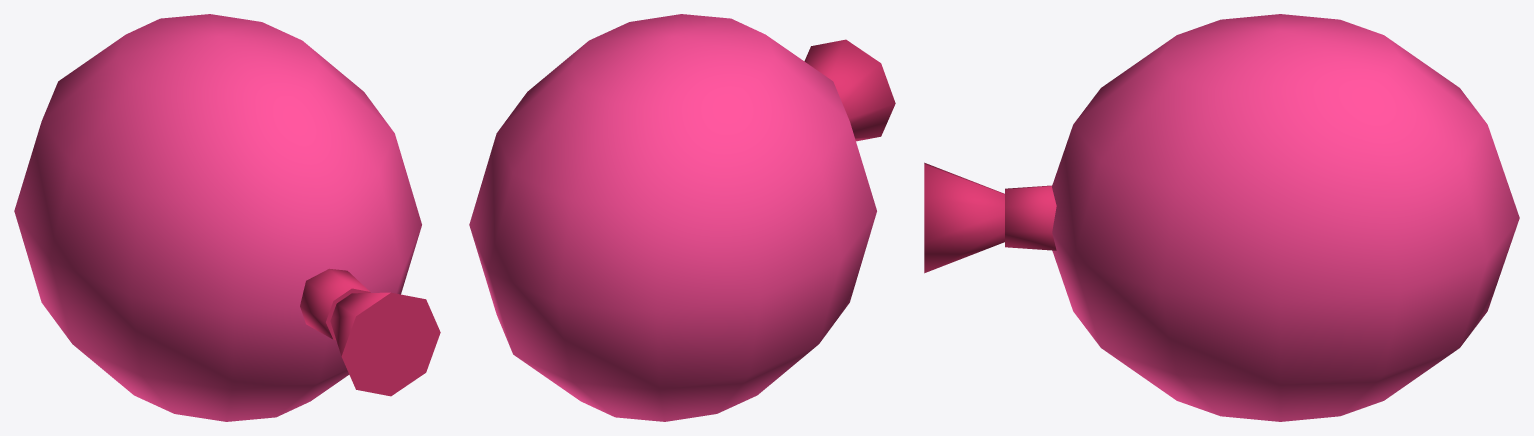
The model's file is fps_balloon.glb.
The picture shows the model from 3 angles, left to right: view 1: azimuth 30°, elevation 25°; view 2: azimuth 150°, elevation 25°; view 3: azimuth 270°, elevation 25°; orthographic projection. The views are drawn at different scales.
Parts seen in each view (by area): view 1: Balloon body, balloon_knot, Balloon neck; view 2: Balloon body, balloon_knot; view 3: Balloon body, balloon_knot, Balloon neck.
Part boxes in pixels (x1,y1,x2,y2): Balloon body: (14, 14, 421, 421); balloon_knot: (330, 292, 440, 396); Balloon neck: (300, 268, 370, 340); Balloon body: (469, 14, 876, 421); balloon_knot: (804, 39, 895, 141); Balloon body: (1052, 14, 1519, 421); balloon_knot: (924, 162, 1004, 273); Balloon neck: (1005, 185, 1056, 250).
Bounding box in the file's own units: 0.3364 × 0.3458 × 0.5.
